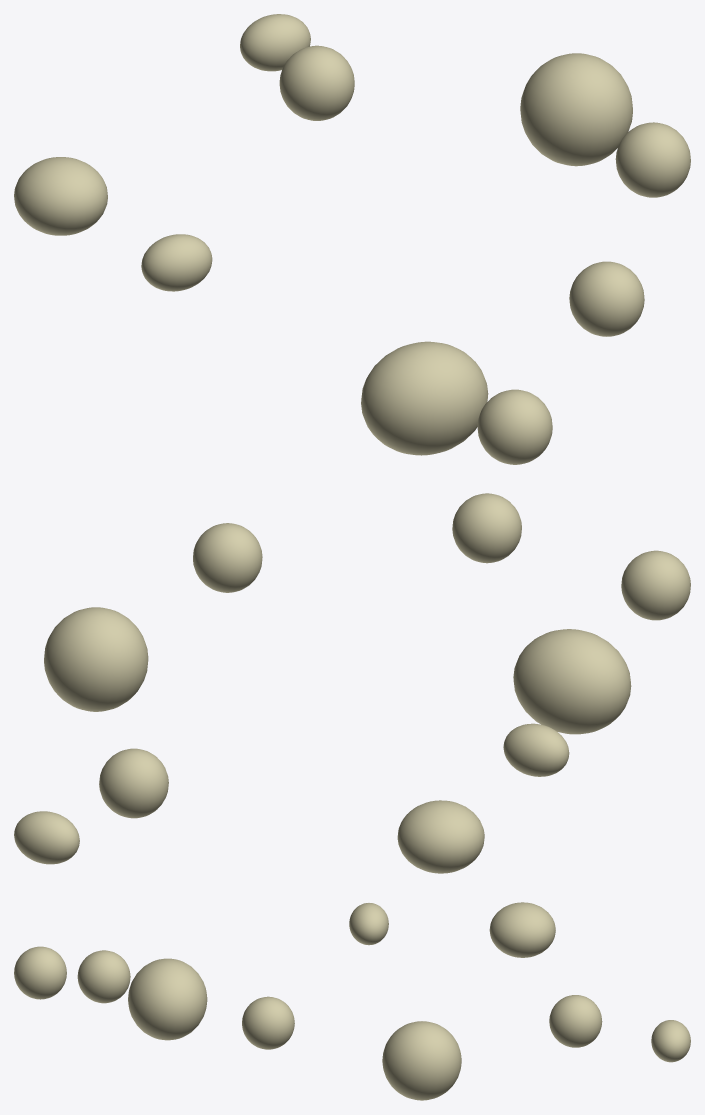
Rendered from Minimal_Default.fbx.
3 views of the same model, one above another, from view 1: azimuth 30°, elevation 25°; view 2: azimuth 150°, elevation 25°; view 3: azimuth 270°, elevation 25° (orthographic). The views are drawn at different scales.
Parts seen in each view (by area): view 1: Shape_Sphere7_20, Shape_Sphere2_5, Shape_Sphere5_14, Shape_Sphere6_17, Shape_Sphere8_23, Shape_Sphere4_11, Shape_Sphere_2, Shape_Sphere9_26, Shape_Sphere3_8; view 2: Shape_Sphere7_20, Shape_Sphere2_5, Shape_Sphere5_14, Shape_Sphere4_11, Shape_Sphere8_23, Shape_Sphere_2, Shape_Sphere6_17, Shape_Sphere9_26, Shape_Sphere3_8; view 3: Shape_Sphere7_20, Shape_Sphere2_5, Shape_Sphere5_14, Shape_Sphere8_23, Shape_Sphere6_17, Shape_Sphere4_11, Shape_Sphere_2, Shape_Sphere9_26, Shape_Sphere3_8.
Part boxes in pixels (x1,y1,x2,y2): Shape_Sphere7_20: (361,341,488,455); Shape_Sphere2_5: (520,53,632,166); Shape_Sphere5_14: (14,157,107,235); Shape_Sphere6_17: (569,261,644,336); Shape_Sphere8_23: (477,389,552,464); Shape_Sphere4_11: (615,122,690,197); Shape_Sphere_2: (279,45,354,120); Shape_Sphere9_26: (141,234,212,291); Shape_Sphere3_8: (240,14,310,71); Shape_Sphere7_20: (513,629,631,734); Shape_Sphere2_5: (44,607,148,711); Shape_Sphere5_14: (397,800,484,873); Shape_Sphere4_11: (193,523,262,592); Shape_Sphere8_23: (621,550,690,620); Shape_Sphere_2: (99,748,168,818); Shape_Sphere6_17: (452,493,521,563); Shape_Sphere9_26: (503,723,569,776); Shape_Sphere3_8: (14,811,79,864); Shape_Sphere7_20: (128,958,207,1040); Shape_Sphere2_5: (382,1021,461,1100); Shape_Sphere5_14: (489,902,555,957); Shape_Sphere8_23: (14,946,66,999); Shape_Sphere6_17: (77,950,130,1003); Shape_Sphere4_11: (242,996,294,1049); Shape_Sphere_2: (549,995,602,1047); Shape_Sphere9_26: (349,903,388,945); Shape_Sphere3_8: (651,1020,690,1062).
Size of what is drawn, in the model's own units: 818 by 1278 by 290.
